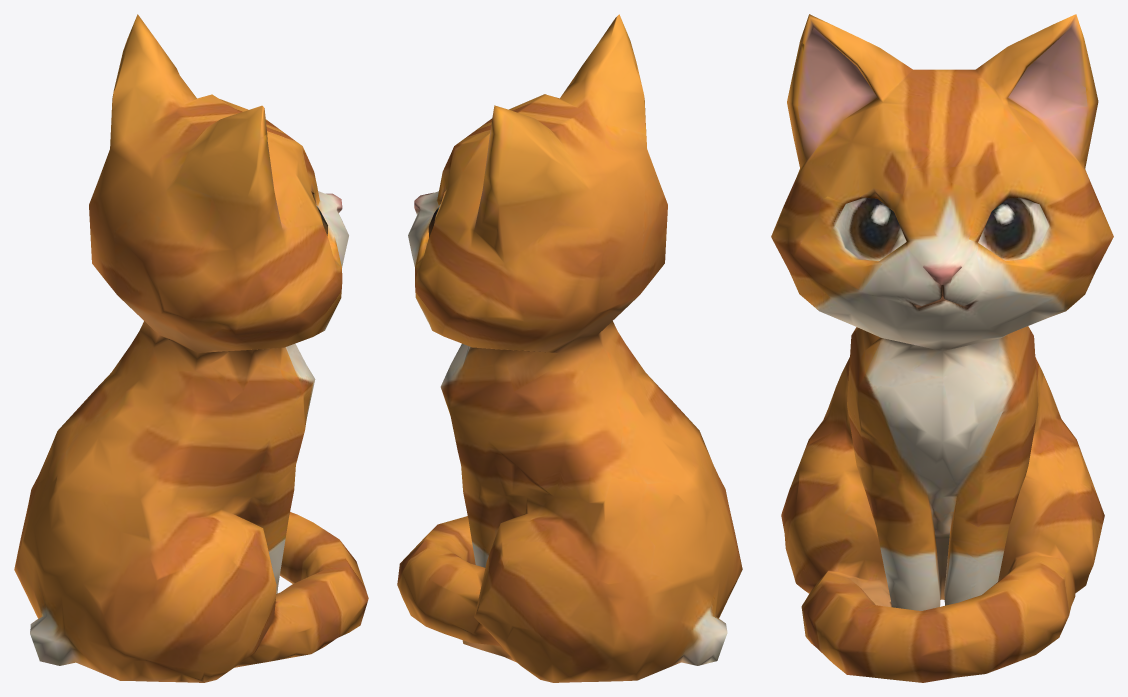
Rendered from ginger-sit.glb.
3 renders of one model, left to right at view 1: azimuth 30°, elevation 25°; view 2: azimuth 150°, elevation 25°; view 3: azimuth 270°, elevation 25°, orthographic. The views are drawn at different scales.
Parts seen in each view (by area): view 1: tripo_node_b625a73e-ab29-4c68-ad03-0a867bc3bdd4; view 2: tripo_node_b625a73e-ab29-4c68-ad03-0a867bc3bdd4; view 3: tripo_node_b625a73e-ab29-4c68-ad03-0a867bc3bdd4.
Boxes of the visible parts, x1=… form: tripo_node_b625a73e-ab29-4c68-ad03-0a867bc3bdd4: x1=14, y1=14, x2=368, y2=682; tripo_node_b625a73e-ab29-4c68-ad03-0a867bc3bdd4: x1=397, y1=14, x2=742, y2=682; tripo_node_b625a73e-ab29-4c68-ad03-0a867bc3bdd4: x1=771, y1=14, x2=1113, y2=682.
Size of the model in its own units: 0.5887 by 1 by 0.5164.
1 material, 1 textured.
